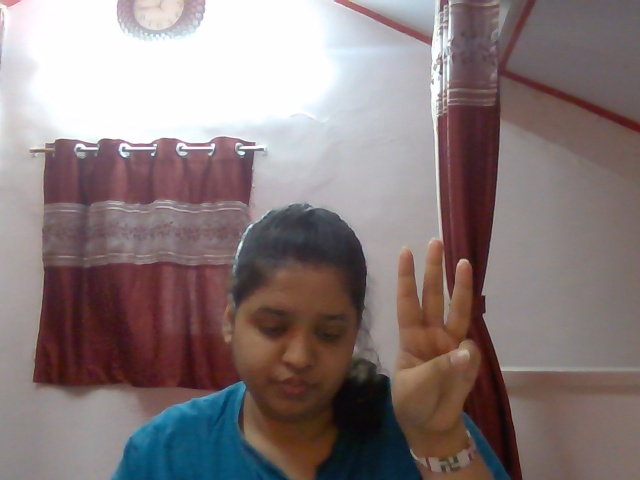w: (372, 233, 496, 435)
